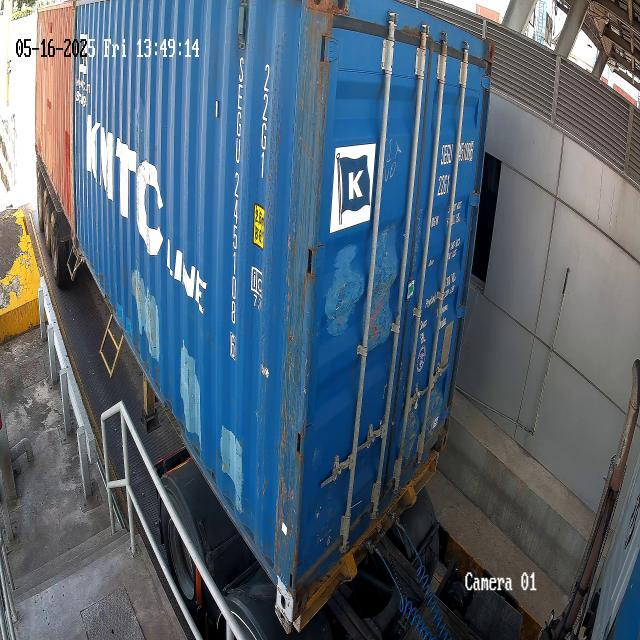ISO: (254, 56, 277, 200)
container_number: (226, 43, 244, 370)
